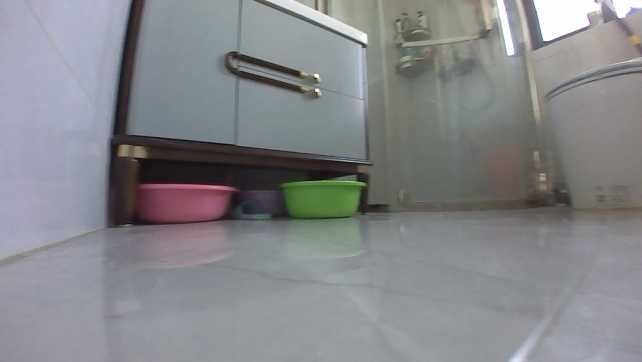toilet: (544, 57, 640, 208)
washstand: (107, 0, 372, 225)
